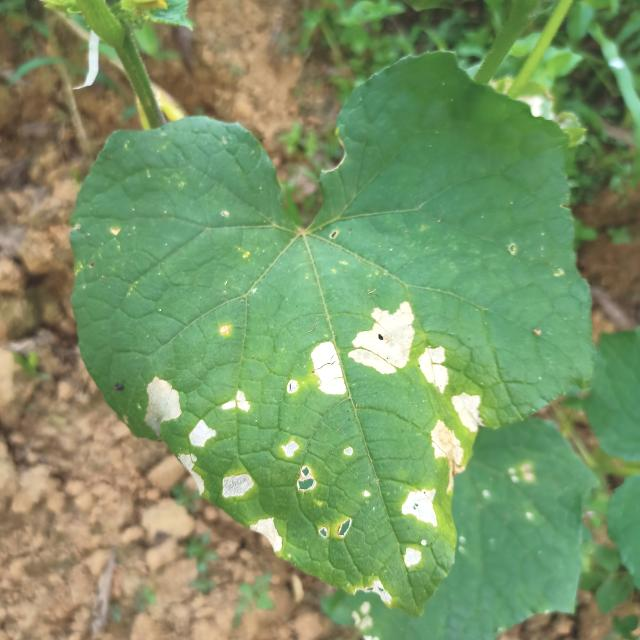disease_cucumber: (310, 299, 414, 397), (142, 379, 253, 445), (431, 391, 484, 461), (182, 451, 252, 499), (399, 486, 440, 565), (281, 441, 317, 496), (418, 346, 449, 396), (254, 516, 287, 548)
